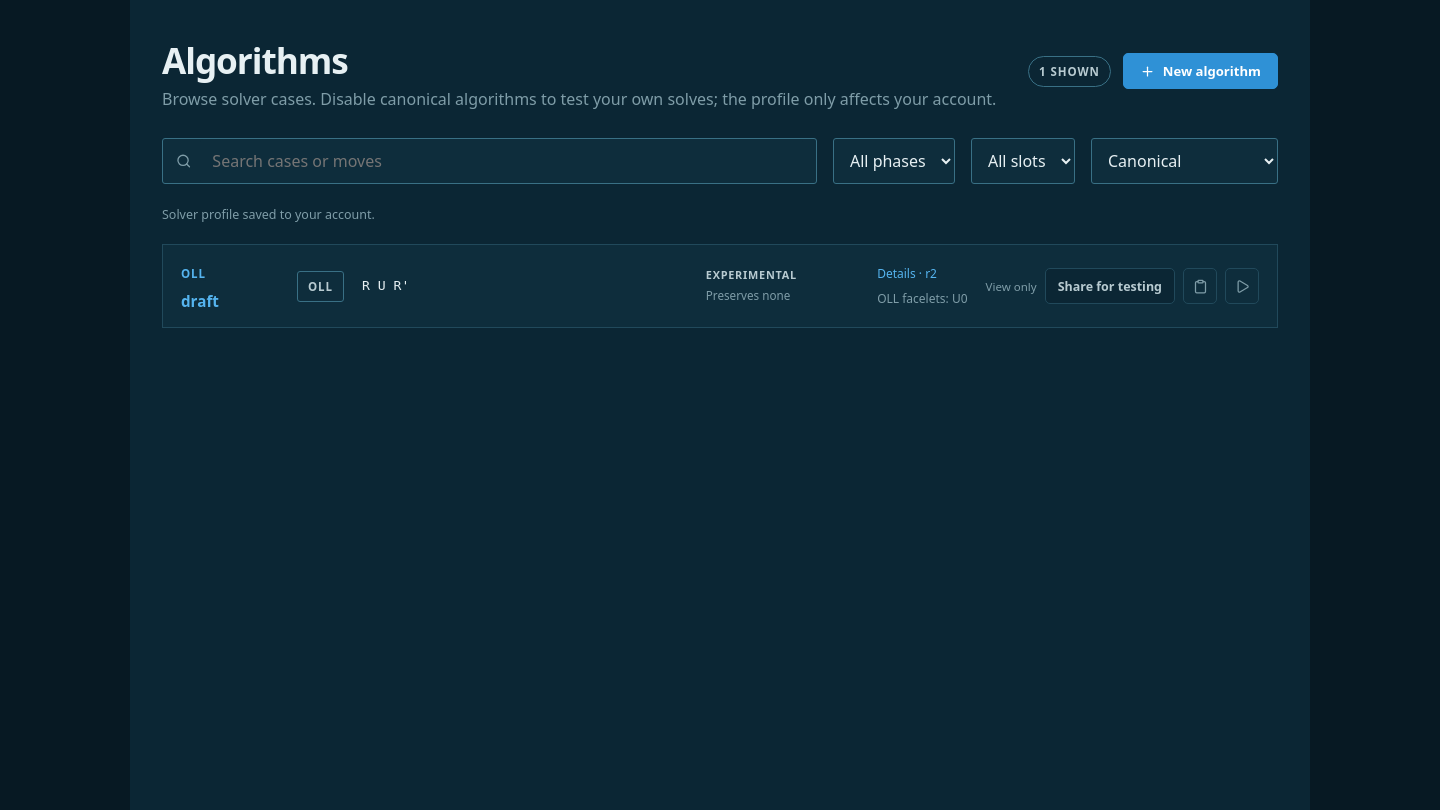
Test: AlgorithmsView › shows only permitted workflow actions and loads revision details
This screenshot has width=1440, height=810.
Click the button "Share for testing": (1110, 286) [1045, 268, 1175, 304]
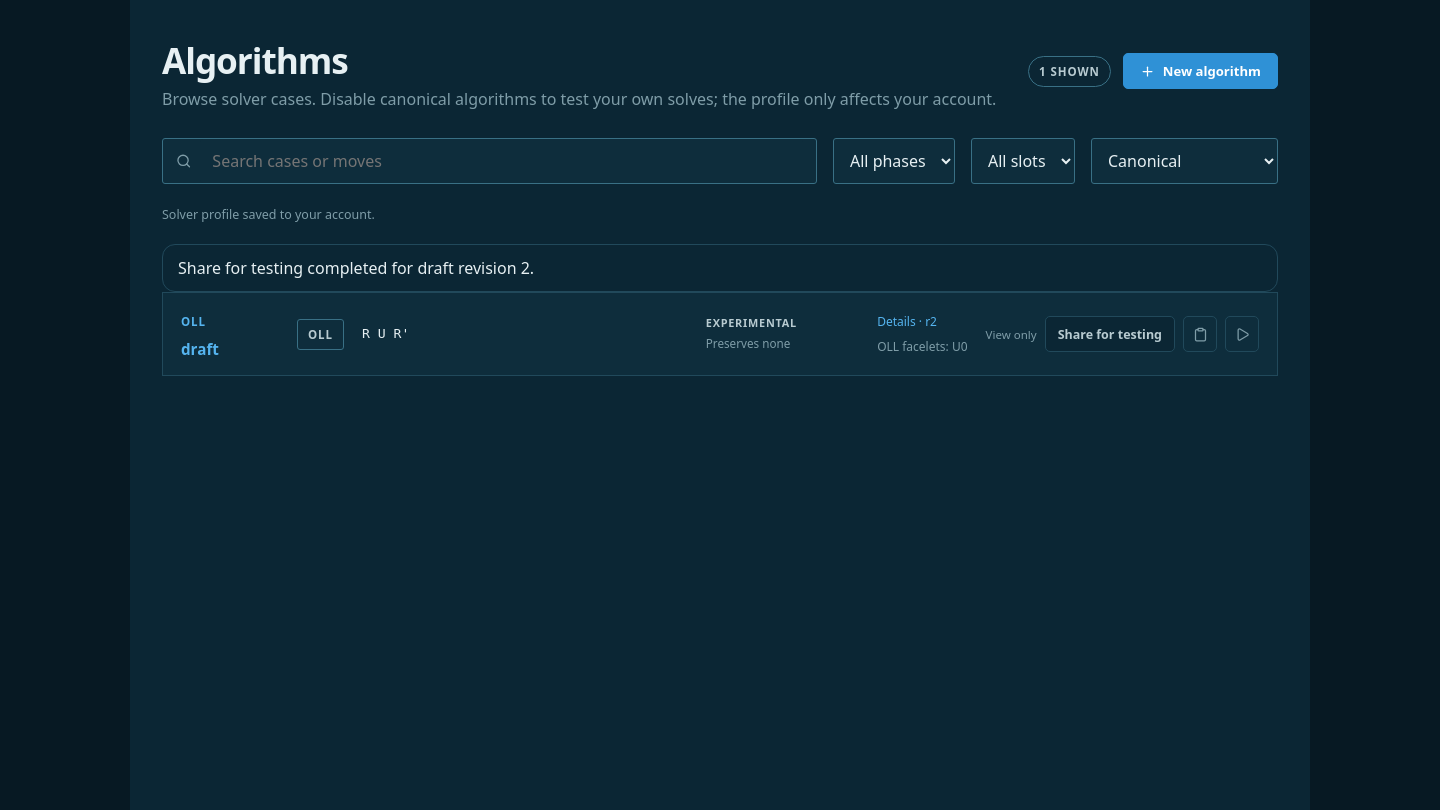
Click the button "Details · r2": (907, 321) [877, 313, 937, 330]
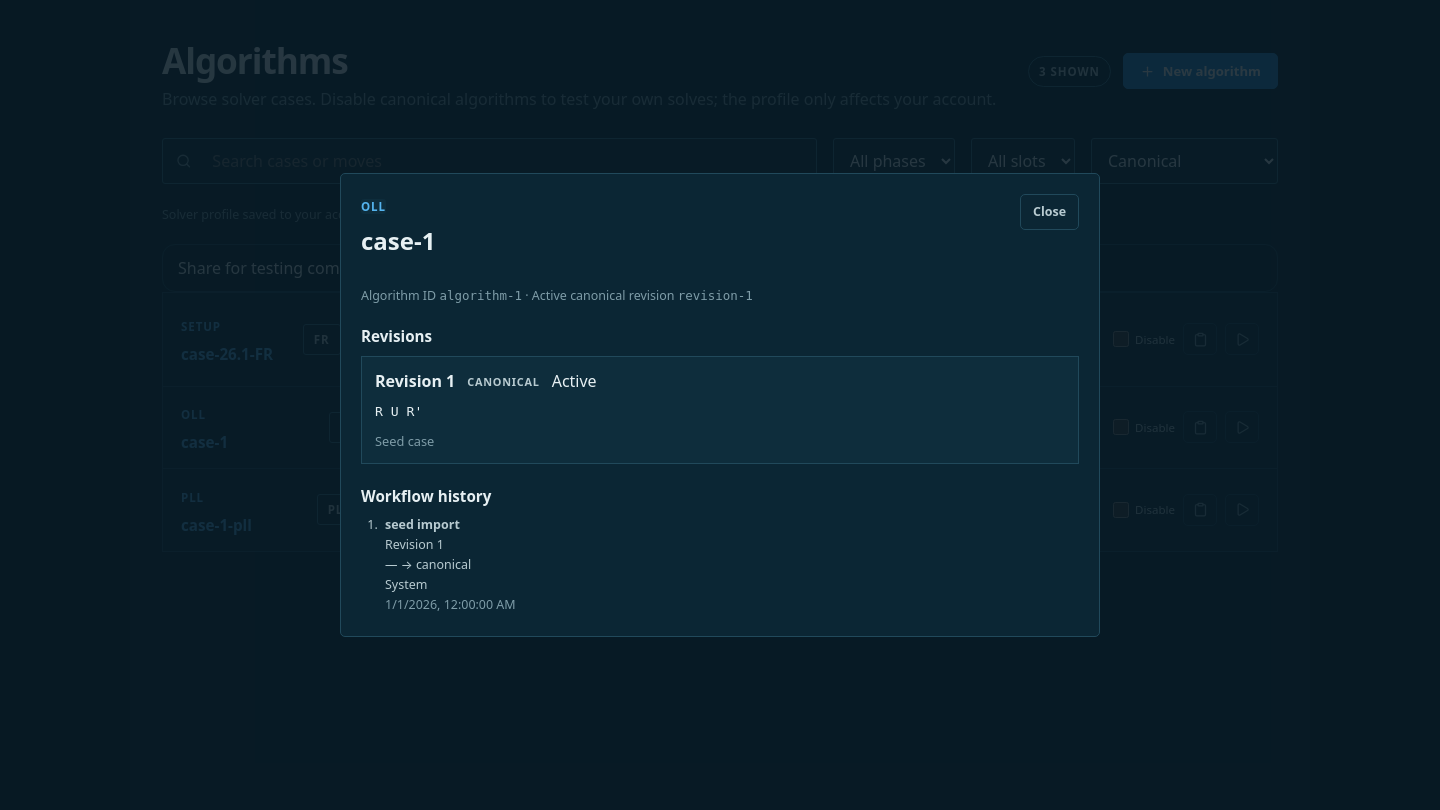
Now the dialog named "Algorithm details" shows "Seed case", box [375, 432, 434, 450]
Now the heading "Workflow history" is shown, box [361, 486, 491, 506]
